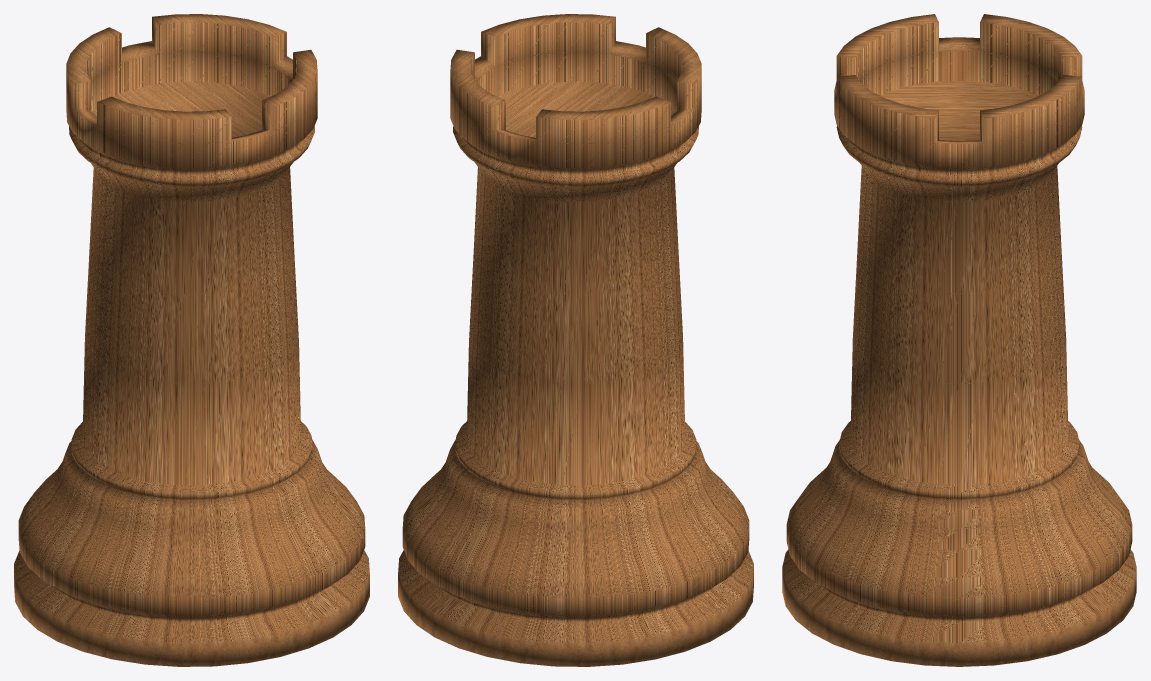
The model's file is Rook.gltf.
3 renders of one model, left to right at view 1: azimuth 30°, elevation 25°; view 2: azimuth 150°, elevation 25°; view 3: azimuth 270°, elevation 25°, orthographic.
Visible parts, largest first — view 1: BlackRook.003; view 2: BlackRook.003; view 3: BlackRook.003.
Boxes of the visible parts, x1,y1,x2,y2 form: BlackRook.003: [14, 14, 369, 666]; BlackRook.003: [398, 14, 753, 666]; BlackRook.003: [782, 14, 1136, 666].
Size of the model in its own units: 0.0392 by 0.0636 by 0.0389.
1 material, 1 textured.
